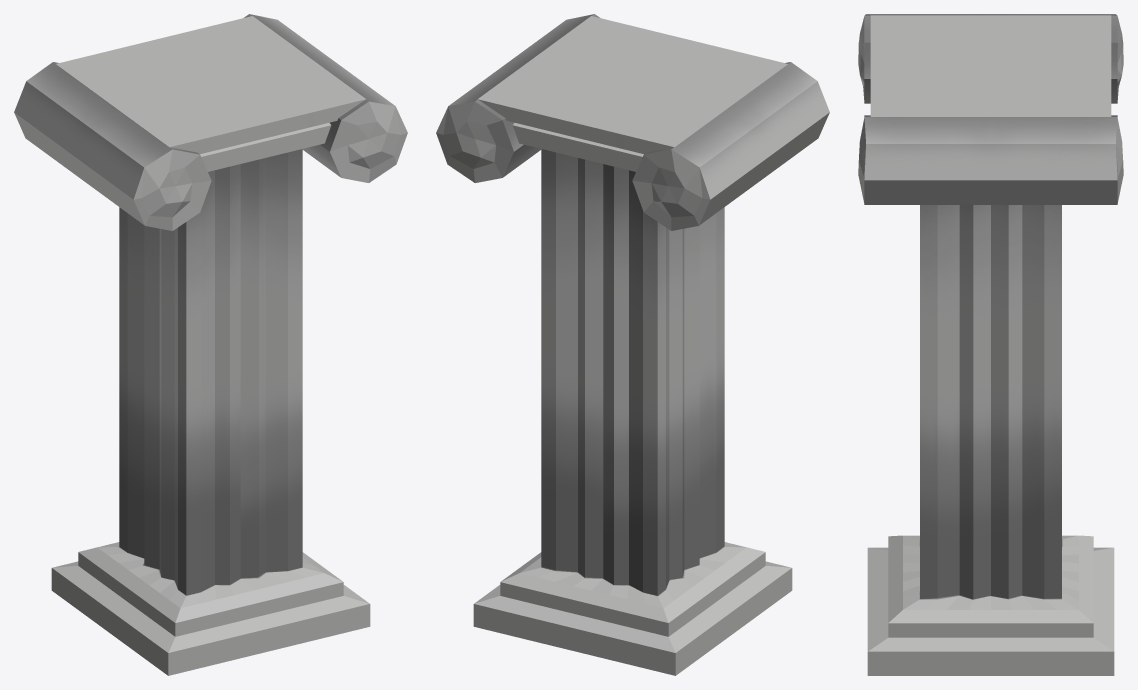
Rendered from statue pilaar.fbx.
The picture shows the model from 3 angles, left to right: view 1: azimuth 30°, elevation 25°; view 2: azimuth 150°, elevation 25°; view 3: azimuth 270°, elevation 25°; orthographic projection. The views are drawn at different scales.
Visible parts, largest first — view 1: Cube.001, Cylinder; view 2: Cube.001, Cylinder; view 3: Cube.001, Cylinder.
Boxes of the visible parts, x1,y1,x2,y2 form: Cube.001: [51, 16, 370, 675]; Cylinder: [14, 14, 407, 230]; Cube.001: [473, 16, 792, 675]; Cylinder: [436, 14, 829, 230]; Cube.001: [867, 15, 1114, 675]; Cylinder: [858, 14, 1123, 204].
Bounding box in the file's own units: 109 × 200 × 86.1.
